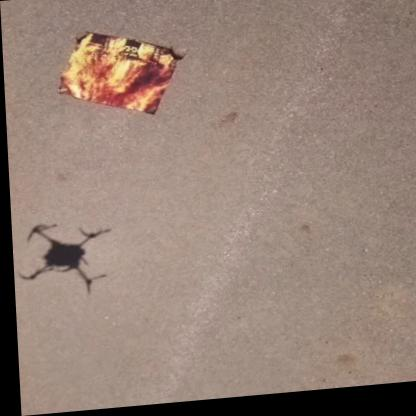fire-poster: (51, 24, 186, 124)
